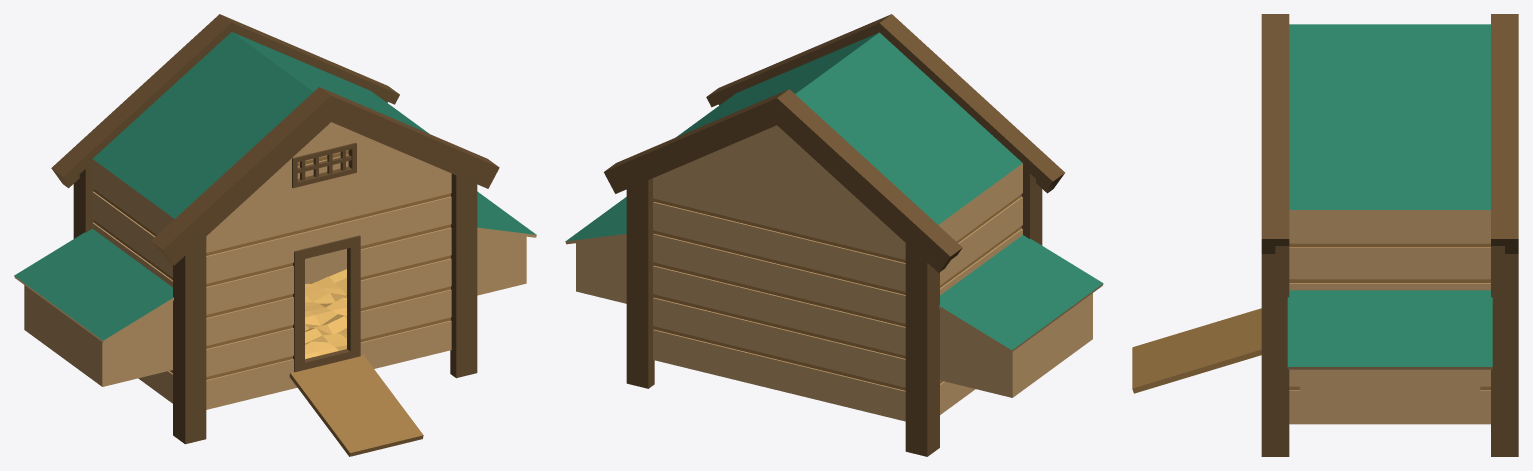
Rendered from mod_BG_Poulailler.fbx.
The picture shows the model from 3 angles, left to right: view 1: azimuth 30°, elevation 25°; view 2: azimuth 150°, elevation 25°; view 3: azimuth 270°, elevation 25°; orthographic projection. The views are drawn at different scales.
Visible parts, largest first — view 1: Poulailler; view 2: Poulailler; view 3: Poulailler.
Boxes of the visible parts, <box> form: Poulailler: <box>14,14,536,456</box>; Poulailler: <box>565,14,1103,456</box>; Poulailler: <box>1132,14,1518,456</box>.
Size of the model in its own units: 134 by 92.22 by 89.56.
